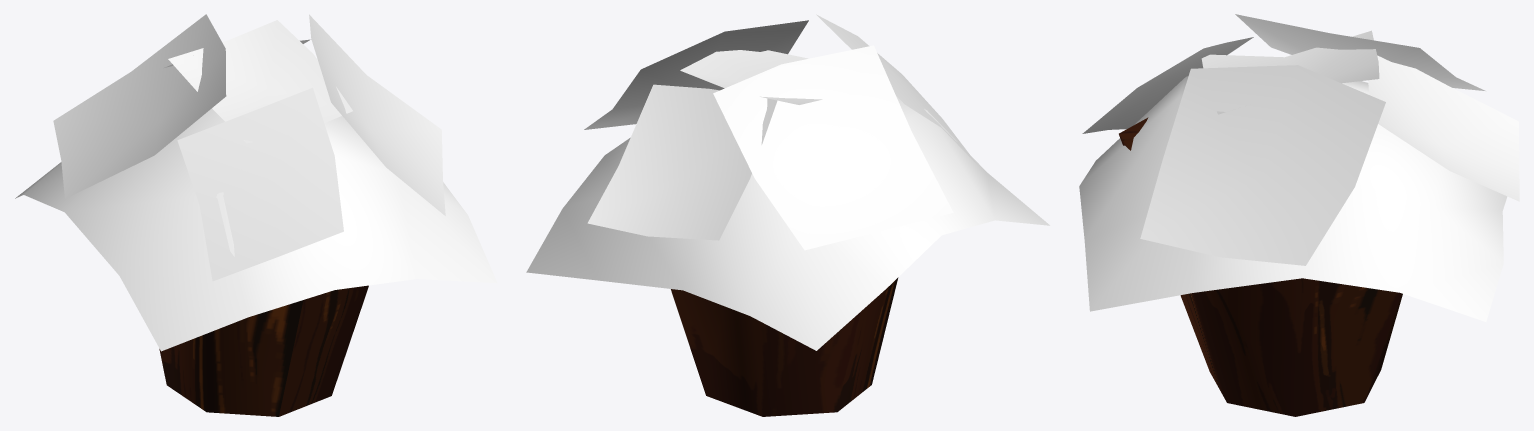
File: SM_PROP_PLANT_pot_v2_03.fbx
3 views of the same model, side by side, from view 1: azimuth 30°, elevation 25°; view 2: azimuth 150°, elevation 25°; view 3: azimuth 270°, elevation 25° (orthographic). The views are drawn at different scales.
Parts seen in each view (by area): view 1: SM_PROP_PLANT_pot_v2_03; view 2: SM_PROP_PLANT_pot_v2_03; view 3: SM_PROP_PLANT_pot_v2_03.
Part boxes in pixels (x1,y1,x2,y2): SM_PROP_PLANT_pot_v2_03: [15, 14, 497, 416]; SM_PROP_PLANT_pot_v2_03: [526, 14, 1049, 416]; SM_PROP_PLANT_pot_v2_03: [1079, 14, 1519, 416].
Bounding box in the file's own units: 77.84 × 66.34 × 76.81.
